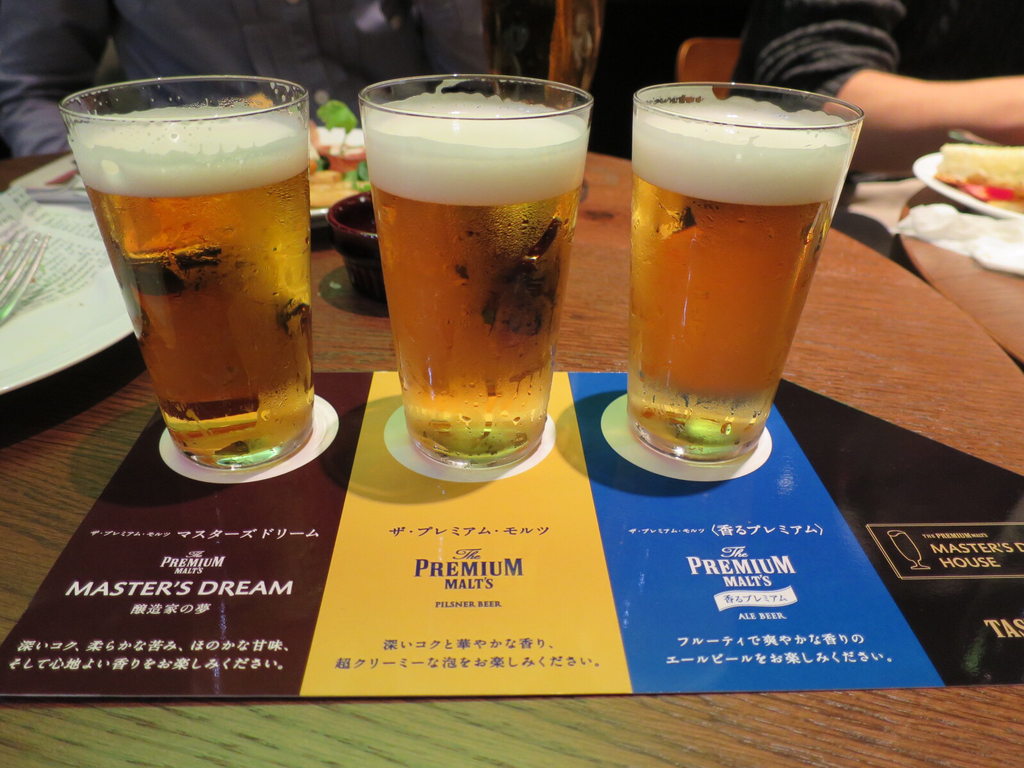Beer: (625, 92, 859, 467), (359, 93, 591, 465), (80, 103, 306, 467)
